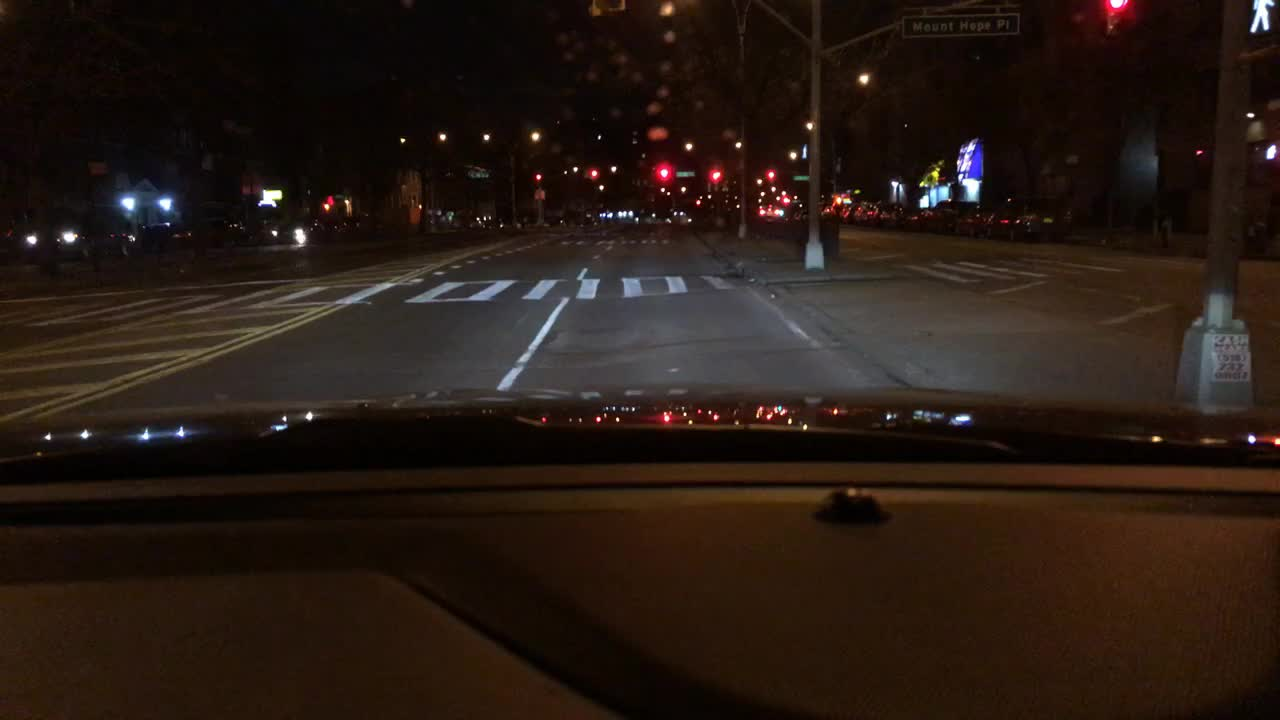car: (984, 192, 1074, 237), (138, 219, 199, 254), (955, 196, 998, 241), (927, 199, 983, 233), (48, 222, 94, 257), (204, 214, 252, 247), (96, 226, 141, 258), (1, 224, 42, 258), (880, 199, 908, 226), (278, 219, 307, 244), (253, 219, 280, 241), (909, 204, 930, 231), (857, 202, 878, 228), (304, 216, 326, 238), (329, 214, 351, 235), (353, 214, 375, 234), (838, 200, 853, 227), (487, 215, 508, 234), (515, 213, 536, 232), (793, 203, 812, 224), (765, 205, 789, 221), (435, 212, 458, 228), (544, 212, 565, 227), (574, 211, 594, 226), (464, 216, 484, 229), (821, 200, 836, 217)
traffic light: (1105, 1, 1131, 23), (657, 165, 671, 178), (712, 169, 723, 180), (763, 170, 773, 180), (590, 168, 601, 177)
traffic sign: (902, 11, 1022, 35), (1247, 0, 1279, 38), (1251, 143, 1279, 158), (677, 168, 697, 178), (792, 173, 810, 181), (534, 188, 545, 201), (800, 146, 806, 157)
